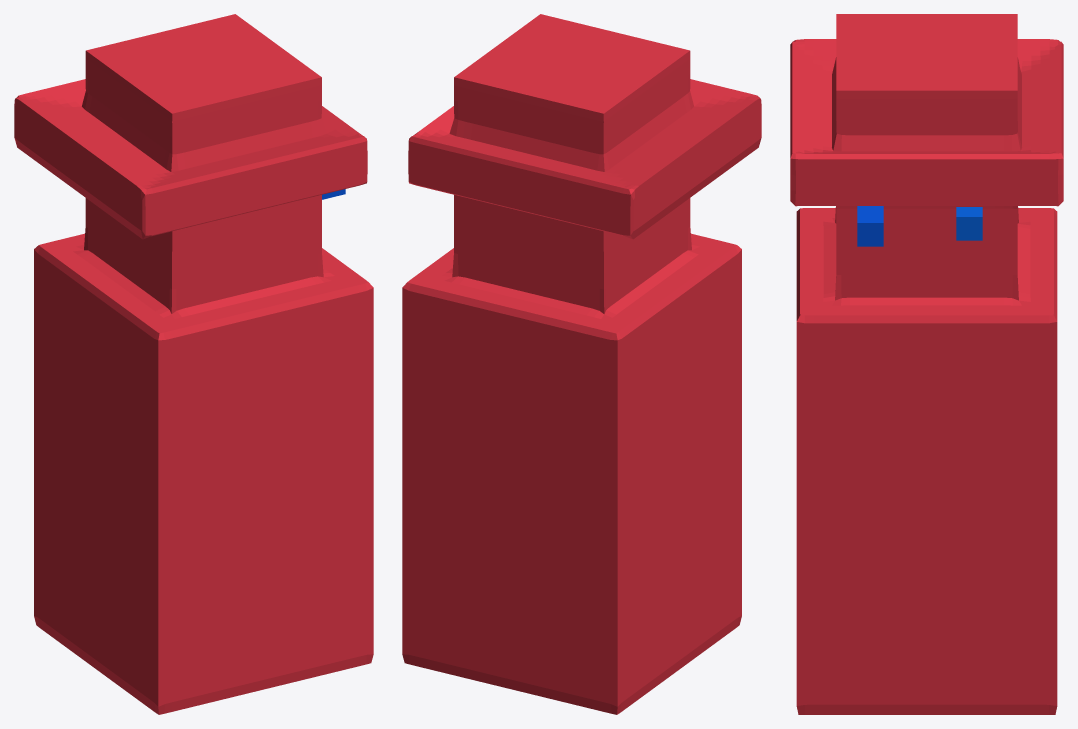
Rendered from ben1.fbx.
3 views of the same model, side by side, from view 1: azimuth 30°, elevation 25°; view 2: azimuth 150°, elevation 25°; view 3: azimuth 270°, elevation 25° (orthographic). The views are drawn at different scales.
Parts seen in each view (by area): view 1: Cube; view 2: Cube; view 3: Cube, Cube.002, Cube.001.
Boxes of the visible parts, x1,y1,x2,y2 form: Cube: (14, 14, 373, 714); Cube: (402, 14, 761, 714); Cube: (790, 14, 1063, 714); Cube.002: (857, 206, 883, 246); Cube.001: (956, 207, 982, 240).
Size of the model in its own units: 332 by 787 by 320.
